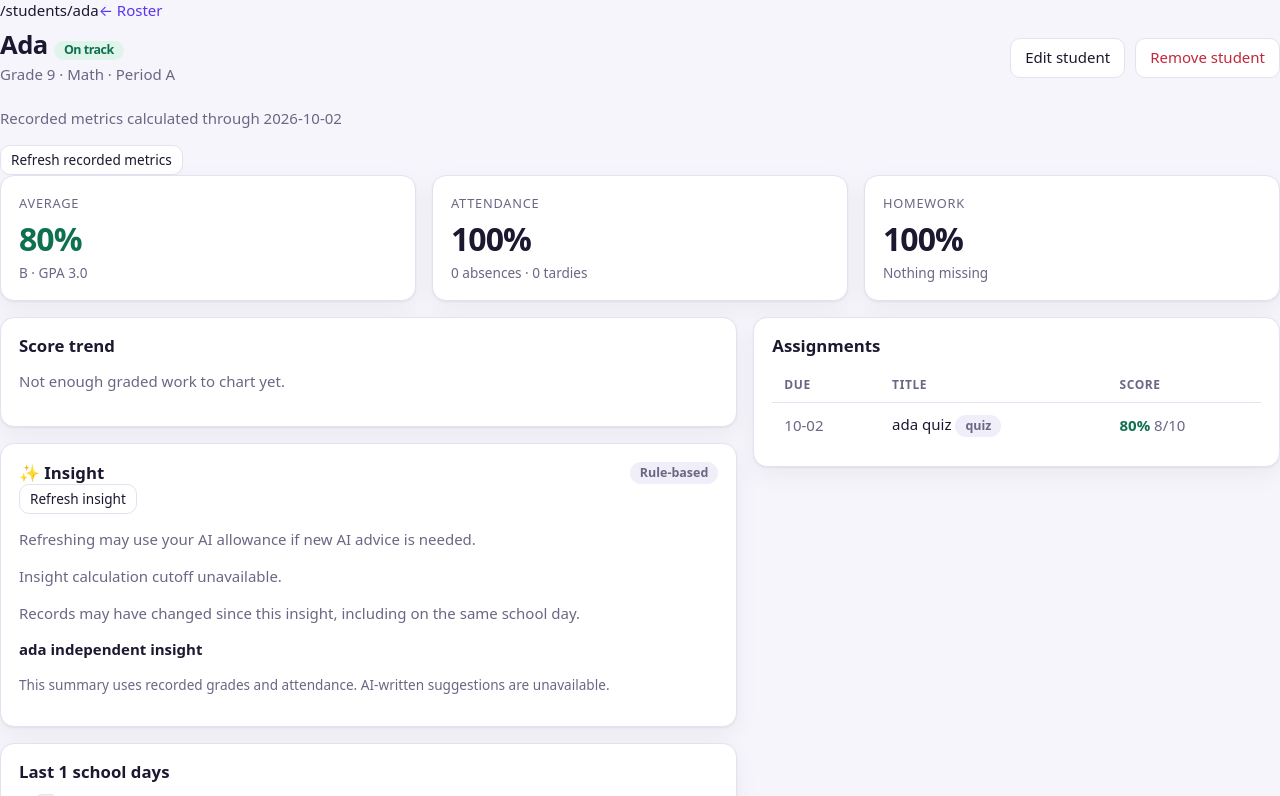
Test: same lifecycle submits exactly A and removes its detail/Insight before invalidation and roster navigation
Expected: the heading "Ada On track" is shown, [0, 27, 124, 62]
Click the button "Remove student" at [1208, 58], box [1135, 38, 1279, 78]
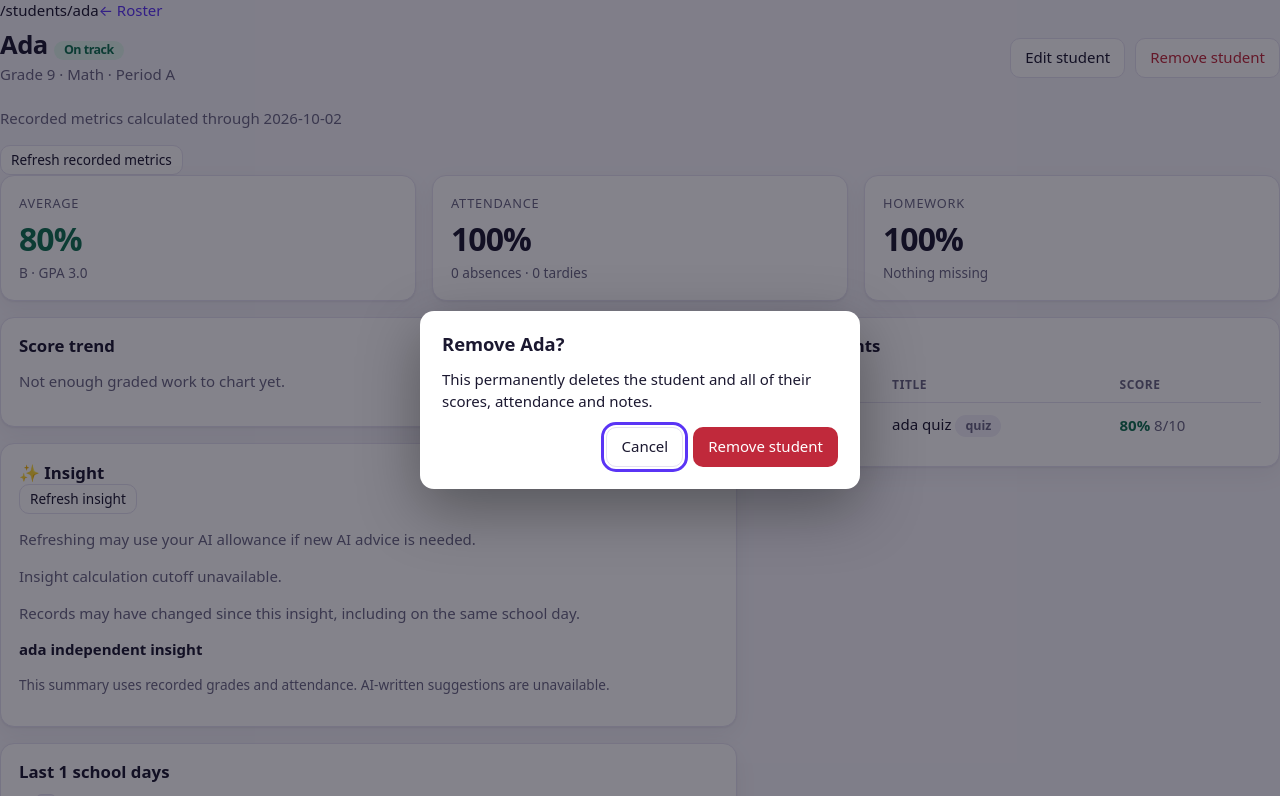
Now the dialog "Remove Ada?" shows "This permanently deletes the student and all of their scores, attendance and notes.", box [442, 369, 811, 411]
Click the button "Remove student" at [766, 447], box [693, 427, 838, 467]
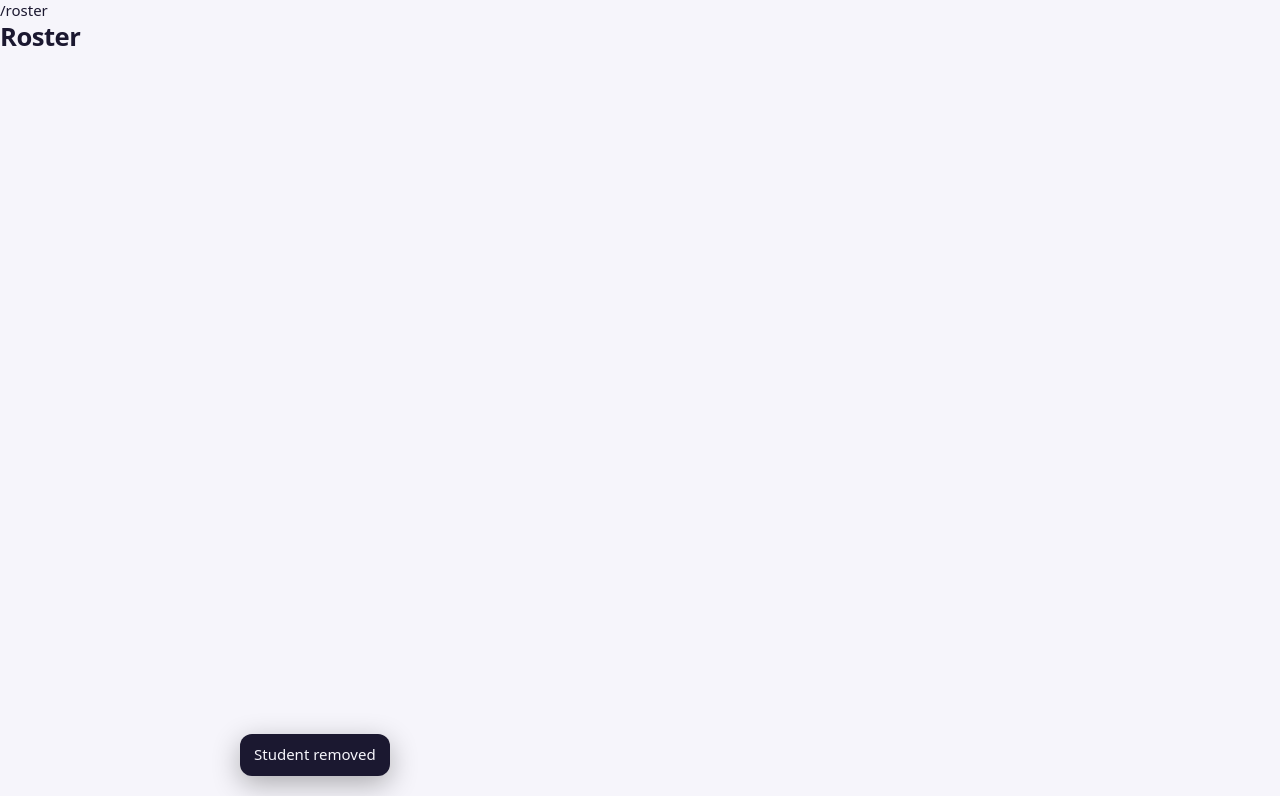
Now the heading "Roster" is shown, box [0, 19, 80, 54]
